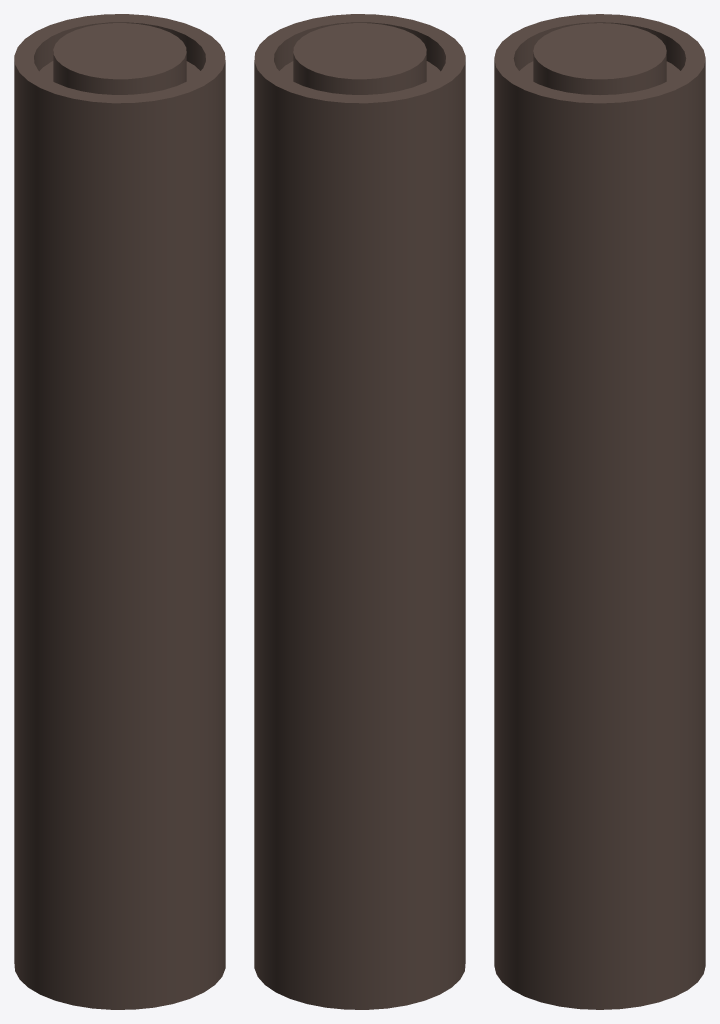
File: boton_radio.fbx
The picture shows the model from 3 angles, left to right: view 1: azimuth 30°, elevation 25°; view 2: azimuth 150°, elevation 25°; view 3: azimuth 270°, elevation 25°; orthographic projection.
Visible parts, largest first — view 1: Cylinder; view 2: Cylinder; view 3: Cylinder.
Boxes of the visible parts, bbox=[...] form: Cylinder: bbox=[14, 14, 225, 1009]; Cylinder: bbox=[254, 14, 465, 1009]; Cylinder: bbox=[494, 14, 705, 1009].
Size of the model in its own units: 13.19 by 62.83 by 13.19.
